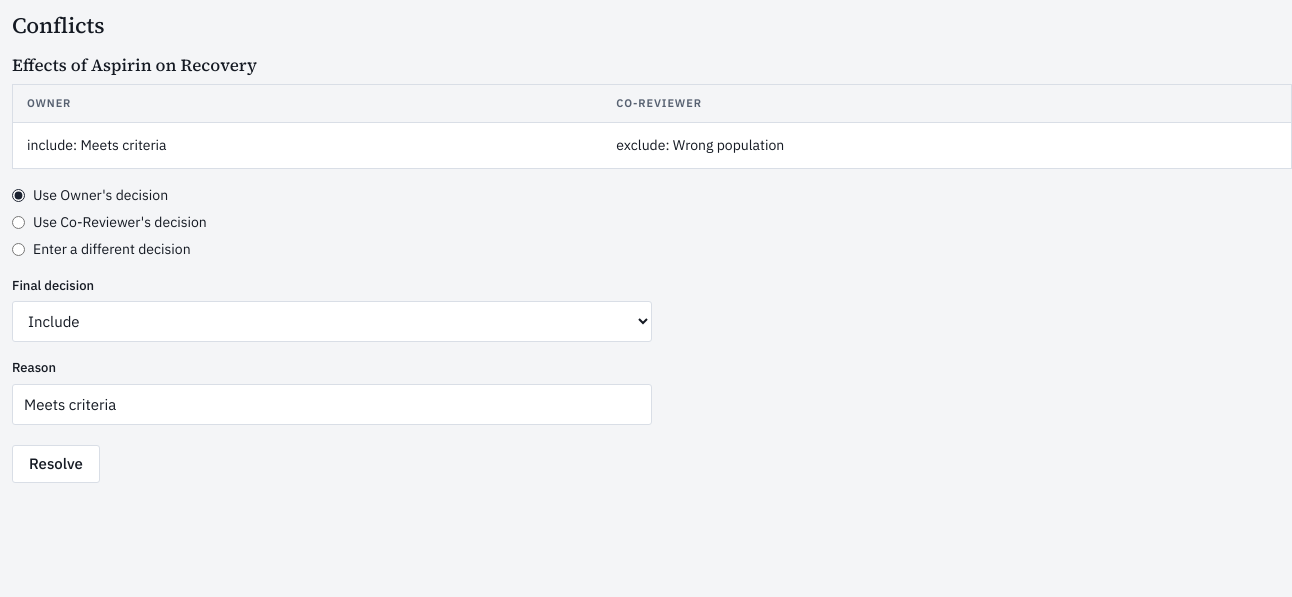
Test: ConflictsPanel › keeps the rows already shown, with the error, when a later refresh fails
What coordinates should you click on to do the following:
click the button "Resolve"
I would click on:
 (56, 464)
Its box is [12, 445, 100, 483].
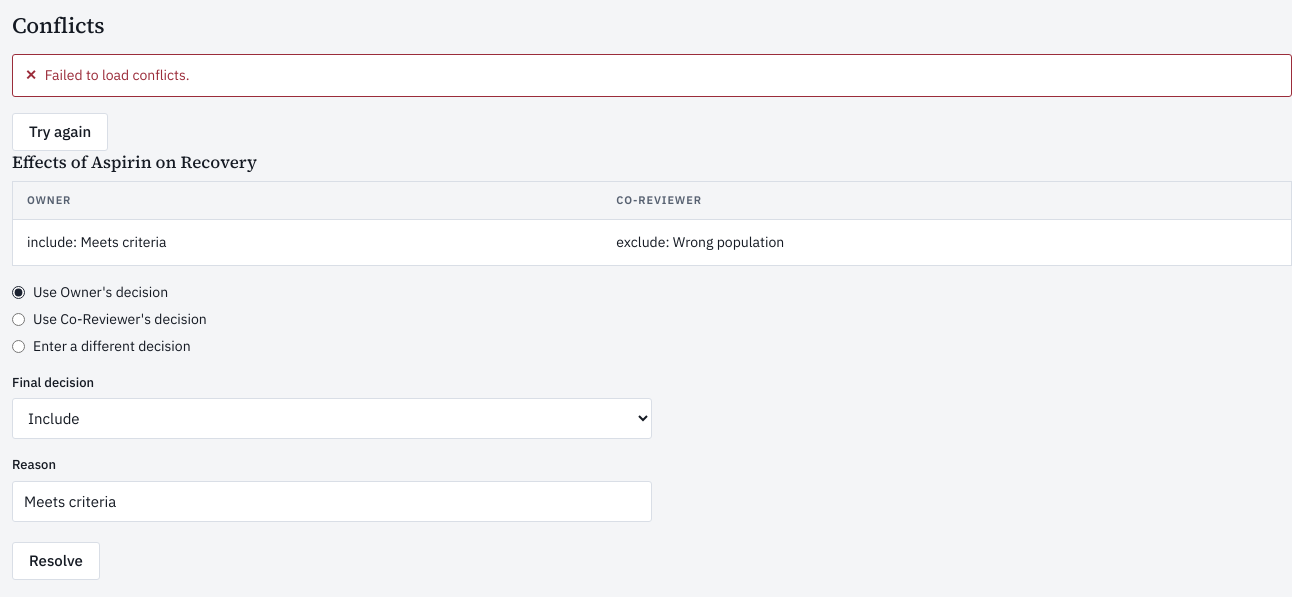
Expected: the heading "Effects of Aspirin on Recovery" is shown, [12, 150, 257, 174]
Expected: the message shows "Failed to load conflicts", [45, 66, 190, 84]
Expected: the button "Try again" is shown, [12, 113, 108, 151]
